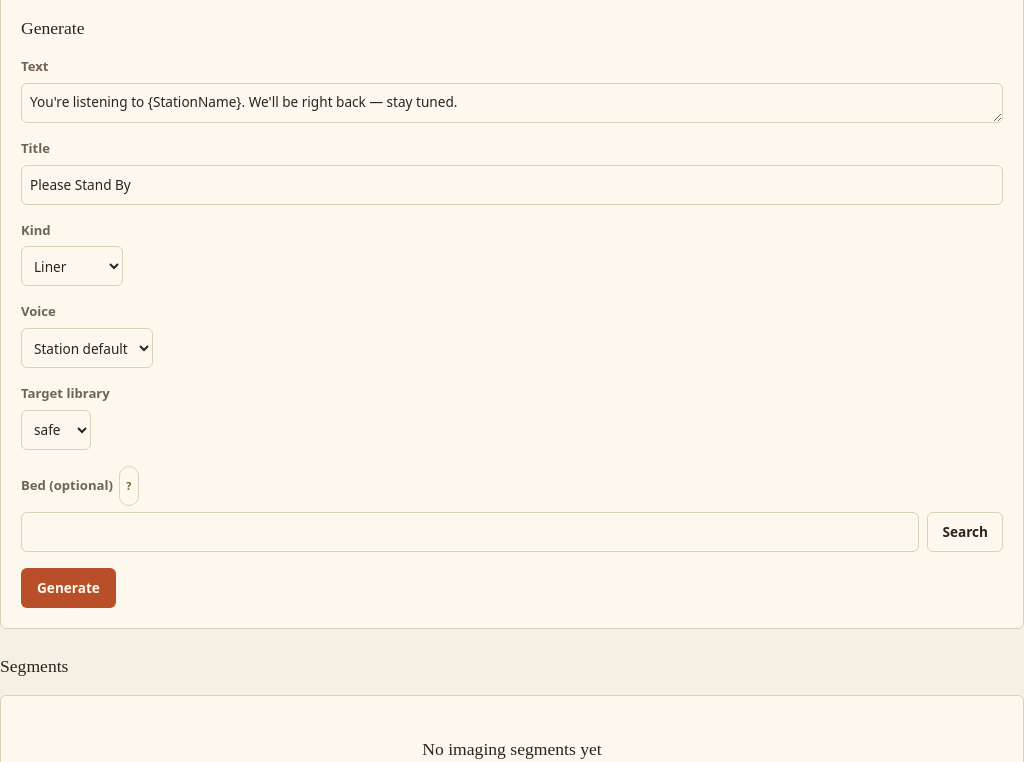
Test: Feature: Voice dropdown with graceful fallback › Scenario: submitting with the dropdown › keeps the rest of the request body byte-identical to the shipped contract
Select "af_aoede" in the dropdown labelled "Voice" at {"x": 87, "y": 348}, box [21,328,153,368]
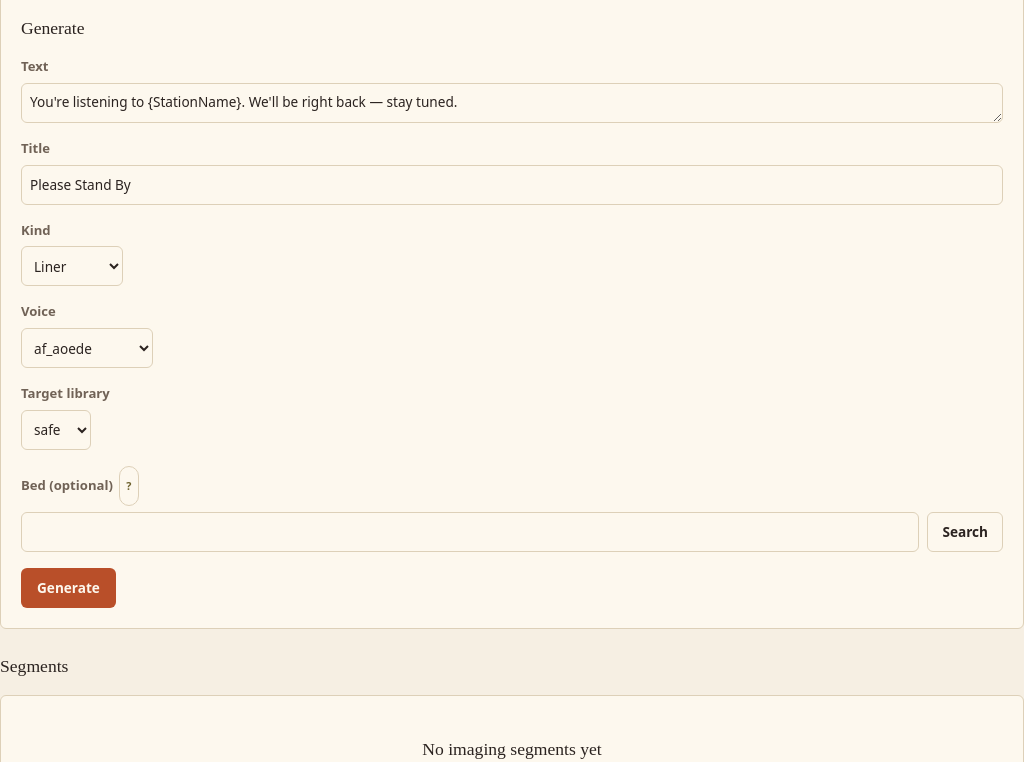
Click the button "Generate".
click(68, 588)  # box [21,568,116,608]
(page scrolled)
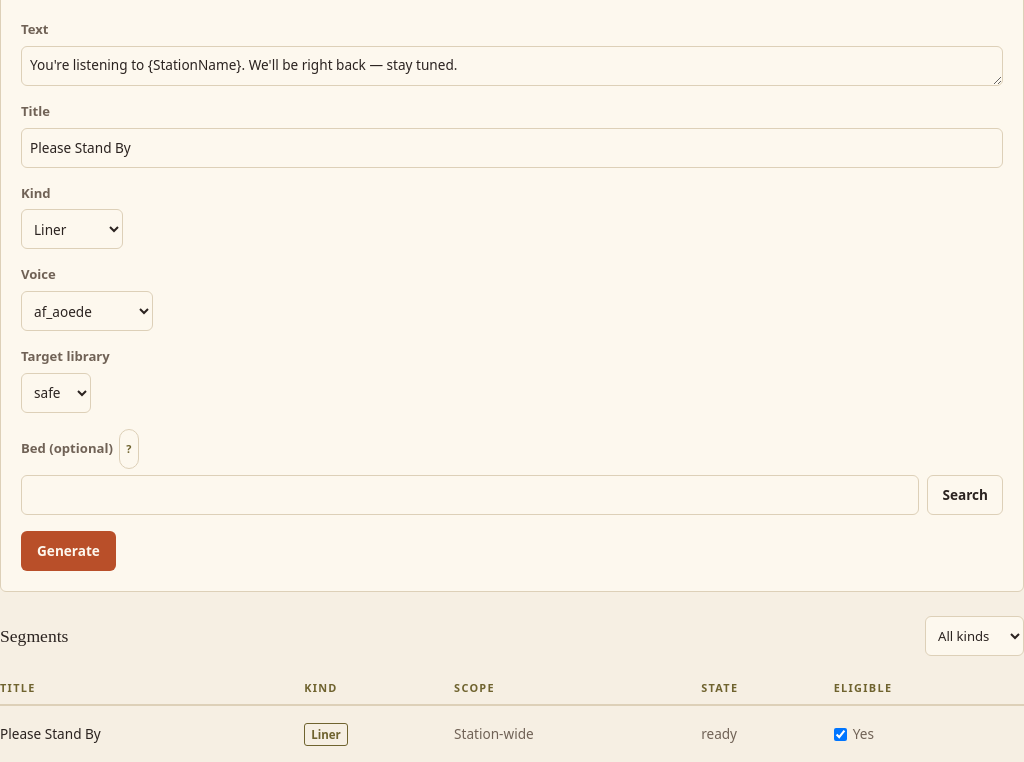
Result: the cell "Please Stand By" is shown at [0,705,304,761]
